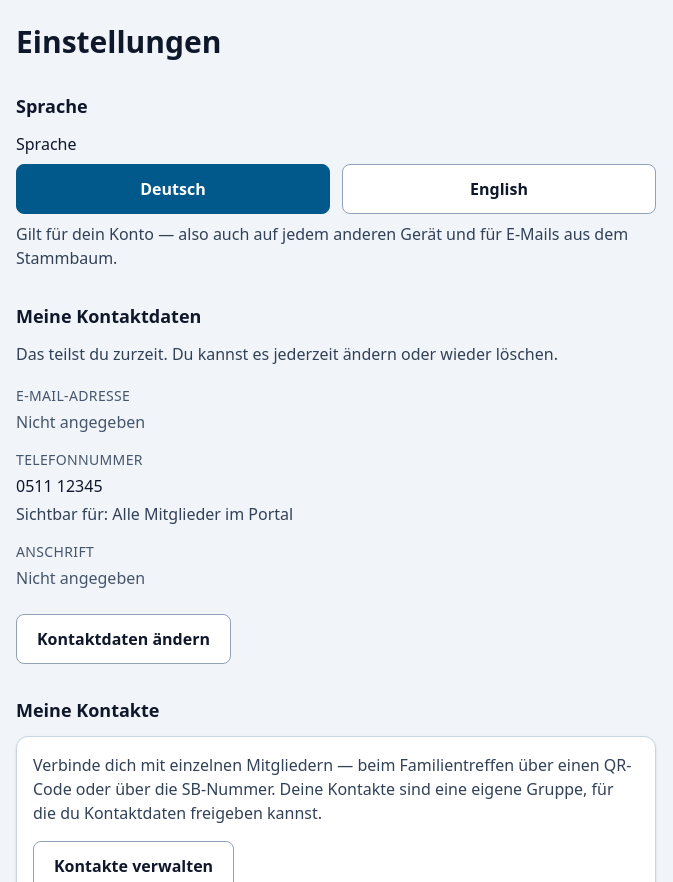
Test case: my own contact details › shows what the member already shares
The image size is (673, 882).
Click the button "Kontaktdaten ändern": (123, 639) top-left (16, 614), bottom-right (231, 664)
(page scrolled)
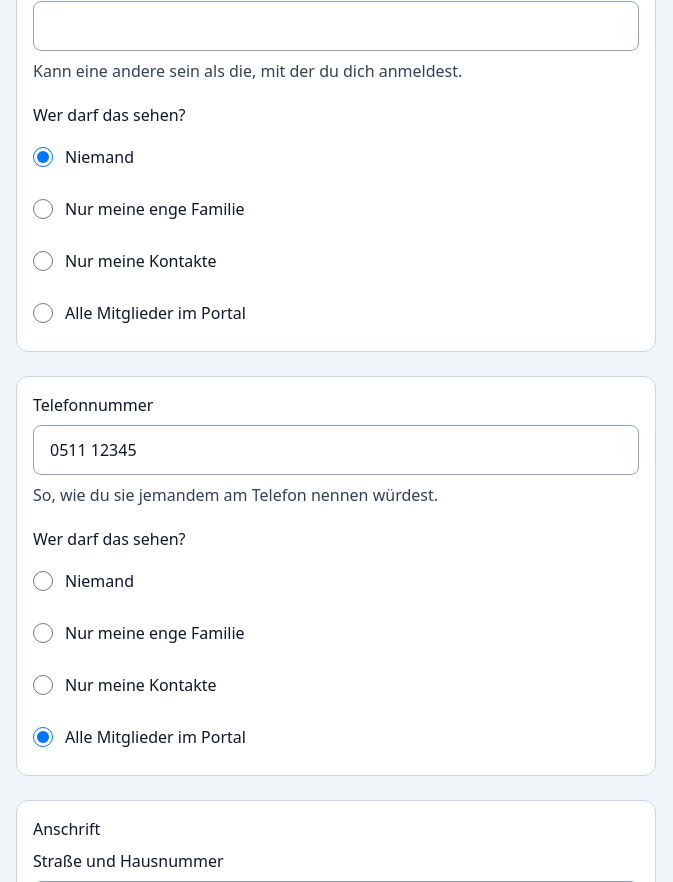
expect the field showing "0511 12345" is shown: met, box top-left (33, 425), bottom-right (639, 475)
